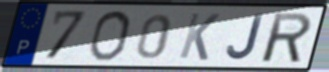0: (133, 12, 176, 60)
7: (46, 8, 91, 62)
J: (225, 13, 266, 62)
K: (177, 11, 223, 63)
O: (86, 9, 134, 63)
R: (261, 11, 314, 64)
